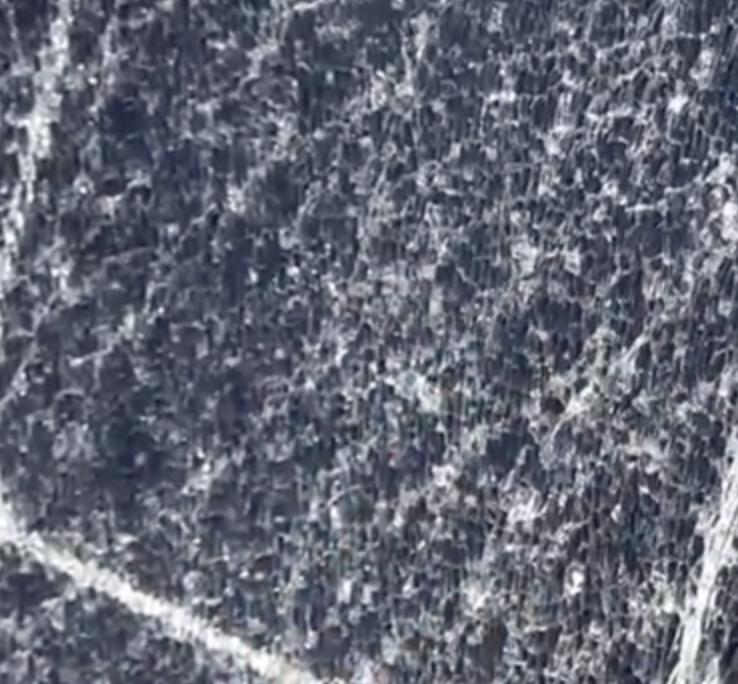Crack: (8, 9, 738, 668)
